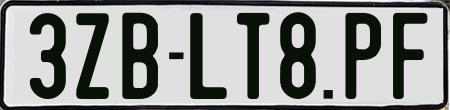3: (29, 10, 70, 96)
8: (280, 9, 316, 97)
B: (121, 11, 162, 98)
F: (392, 11, 432, 102)
L: (189, 11, 230, 98)
P: (343, 11, 383, 102)
T: (237, 12, 273, 101)
Z: (73, 11, 111, 98)
